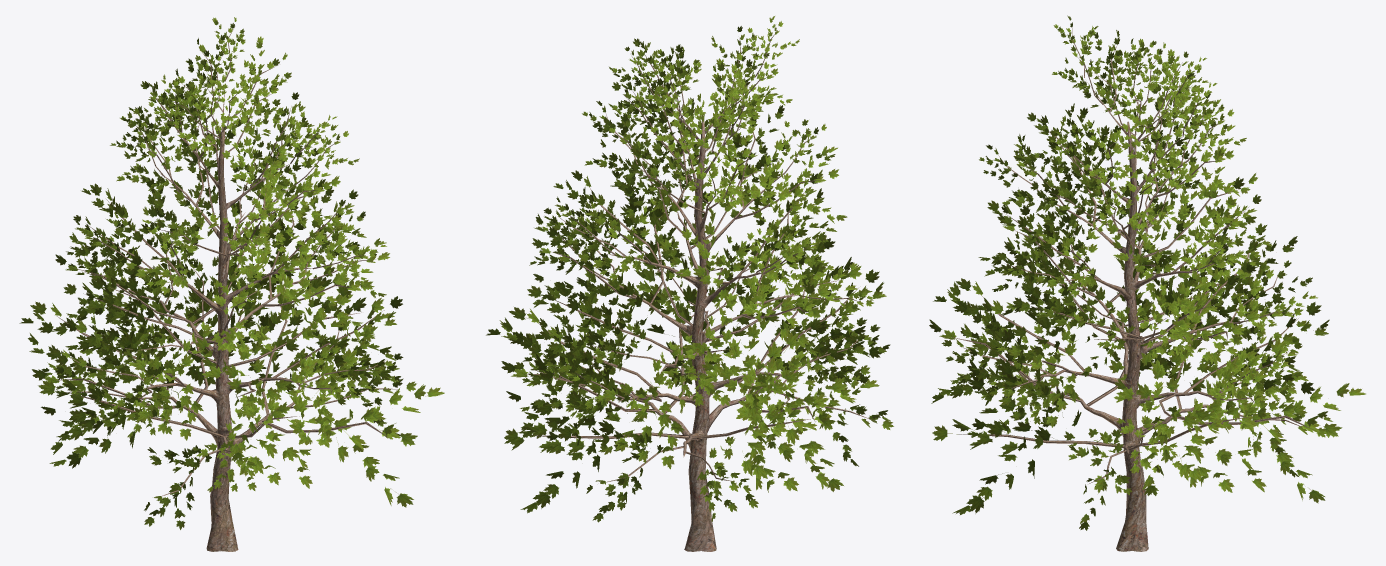
File: oak2_LOD1.obj
The picture shows the model from 3 angles, left to right: view 1: azimuth 30°, elevation 25°; view 2: azimuth 150°, elevation 25°; view 3: azimuth 270°, elevation 25°; orthographic projection. The views are drawn at different scales.
Visible parts, largest first — view 1: leaf maple, bark02; view 2: leaf maple, bark02; view 3: leaf maple, bark02.
Part boxes in pixels (left/top/right/bottom): leaf maple: left=19, top=17, right=444, bottom=529; bark02: left=56, top=29, right=398, bottom=551; leaf maple: left=486, top=16, right=893, bottom=522; bark02: left=525, top=32, right=874, bottom=551; leaf maple: left=929, top=15, right=1365, bottom=530; bark02: left=951, top=28, right=1311, bottom=551.
Size of the model in its own units: 634 by 858 by 681.
2 materials, 2 textured.
